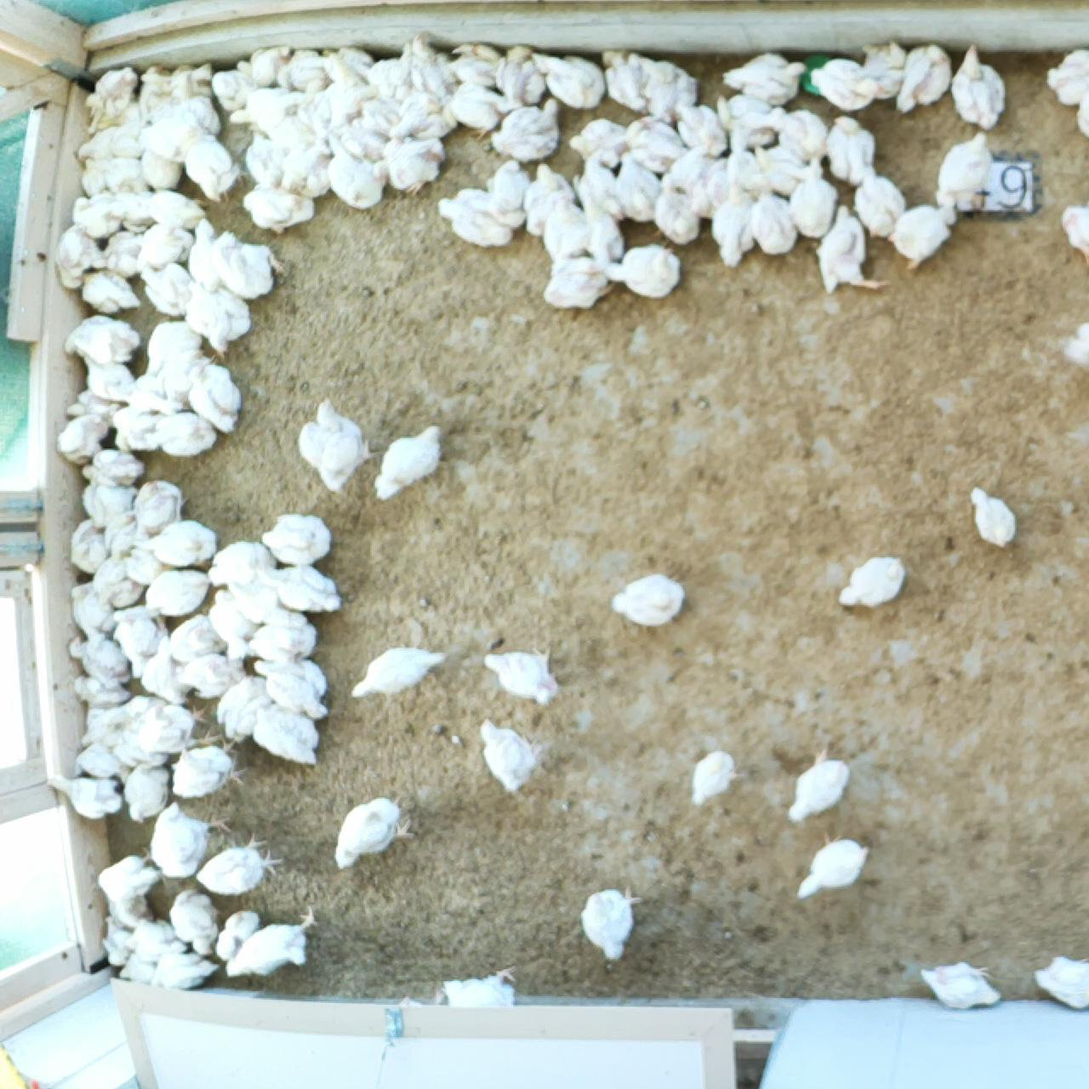chicken: (292, 396, 382, 501), (224, 900, 322, 982), (329, 791, 418, 881), (146, 799, 235, 882), (814, 201, 889, 299), (791, 831, 874, 910), (194, 828, 287, 896), (351, 642, 453, 704), (929, 127, 999, 217), (373, 419, 446, 505), (782, 742, 853, 830), (949, 38, 1014, 132), (889, 198, 961, 280), (95, 842, 166, 925), (600, 235, 685, 303), (472, 717, 543, 798), (577, 880, 648, 961), (249, 699, 328, 770), (436, 184, 518, 252), (607, 568, 689, 636), (210, 229, 286, 302), (486, 95, 564, 166), (910, 959, 1010, 1014), (848, 158, 912, 243), (718, 44, 810, 103), (172, 732, 249, 801), (527, 47, 611, 110), (531, 255, 617, 315), (253, 655, 331, 720), (480, 643, 564, 703), (833, 550, 909, 616), (371, 136, 448, 199), (255, 560, 346, 613), (110, 602, 169, 682), (706, 180, 759, 269), (259, 507, 335, 569), (78, 692, 161, 748), (1022, 949, 1089, 1018), (224, 574, 308, 629), (56, 311, 140, 366), (211, 674, 275, 746), (325, 135, 389, 207), (647, 170, 703, 252), (42, 770, 127, 823), (132, 517, 221, 567), (191, 354, 247, 433), (571, 193, 633, 264), (47, 220, 107, 292), (181, 132, 241, 204), (821, 113, 879, 187), (130, 701, 219, 749), (895, 37, 949, 116), (138, 565, 215, 620), (638, 57, 700, 125), (441, 78, 510, 139), (185, 279, 237, 359), (577, 148, 631, 225), (438, 962, 523, 1010), (138, 634, 196, 704), (748, 181, 801, 257), (241, 183, 318, 235), (128, 477, 189, 542), (811, 57, 878, 116), (524, 159, 576, 235), (174, 648, 248, 701), (619, 115, 682, 177), (140, 409, 219, 458), (594, 47, 649, 116), (406, 30, 460, 100), (789, 160, 836, 240), (964, 484, 1020, 550), (203, 535, 274, 587), (613, 148, 658, 228), (565, 115, 629, 171), (278, 137, 333, 202), (769, 105, 830, 163), (686, 750, 743, 812), (209, 588, 258, 660), (229, 86, 301, 135), (168, 888, 221, 954), (673, 97, 730, 158), (146, 316, 200, 380), (69, 631, 135, 683), (542, 190, 587, 265), (138, 260, 199, 315), (125, 760, 176, 825), (718, 133, 768, 198), (494, 43, 546, 105), (713, 91, 783, 137), (451, 35, 505, 94), (57, 409, 110, 469), (140, 108, 203, 158), (859, 40, 908, 104), (80, 62, 139, 115), (1042, 41, 1089, 107), (165, 609, 228, 658), (143, 185, 211, 230), (138, 215, 194, 269), (688, 158, 738, 218), (184, 215, 224, 289), (78, 351, 136, 401), (479, 155, 529, 213), (95, 555, 148, 609), (76, 447, 147, 487), (78, 267, 141, 312), (151, 949, 220, 990), (71, 185, 125, 237), (325, 59, 364, 131), (123, 372, 189, 413), (234, 42, 294, 87), (216, 906, 261, 966), (756, 142, 807, 194), (110, 399, 160, 452), (60, 386, 124, 427), (371, 40, 414, 100), (104, 723, 163, 765), (68, 576, 113, 631), (85, 85, 134, 135), (214, 284, 255, 343), (71, 734, 124, 779), (97, 228, 151, 272), (245, 130, 284, 190), (321, 43, 376, 85), (391, 92, 442, 137), (64, 515, 107, 568), (1050, 314, 1089, 371), (71, 669, 131, 706), (124, 914, 175, 957), (172, 97, 227, 135), (667, 142, 710, 190), (104, 187, 155, 226), (298, 76, 332, 134), (1056, 201, 1089, 260), (283, 47, 327, 91), (357, 96, 402, 139), (102, 508, 142, 556), (115, 99, 148, 157), (138, 150, 186, 189), (410, 107, 459, 145), (134, 63, 170, 114), (100, 153, 147, 192), (96, 476, 138, 518), (101, 913, 132, 967), (212, 68, 250, 112), (75, 125, 119, 162), (122, 544, 167, 579), (267, 113, 312, 145), (172, 61, 213, 96), (116, 951, 156, 986), (81, 474, 109, 519), (77, 155, 107, 193), (1071, 96, 1089, 146)
